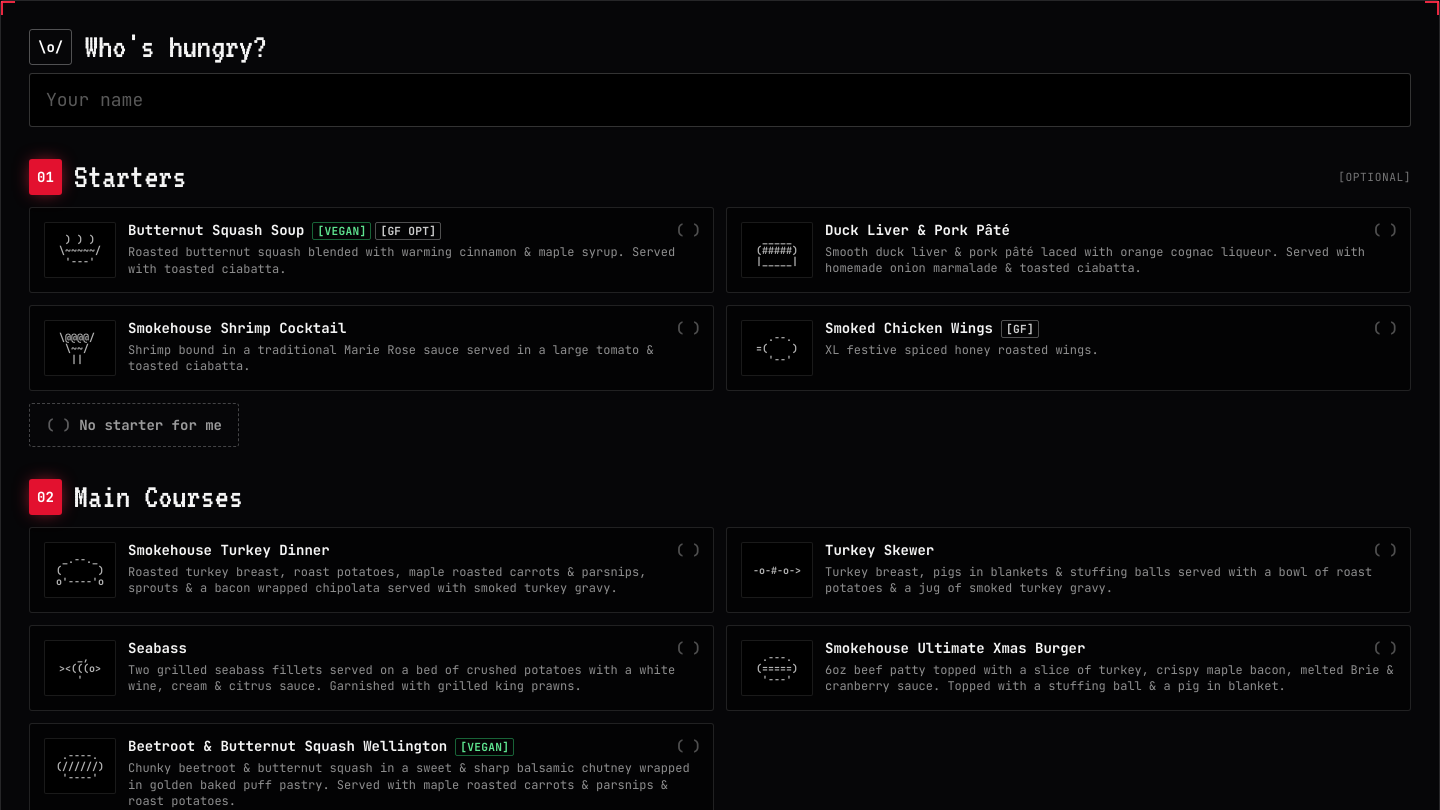
it: OrderForm › asks cream or ice cream for the fudge cake and requires an answer
Later steps or results of the test are not shown.
Type "Ben" into the field with placeholder "Your name" at (720, 100), box [29,73,1411,127]
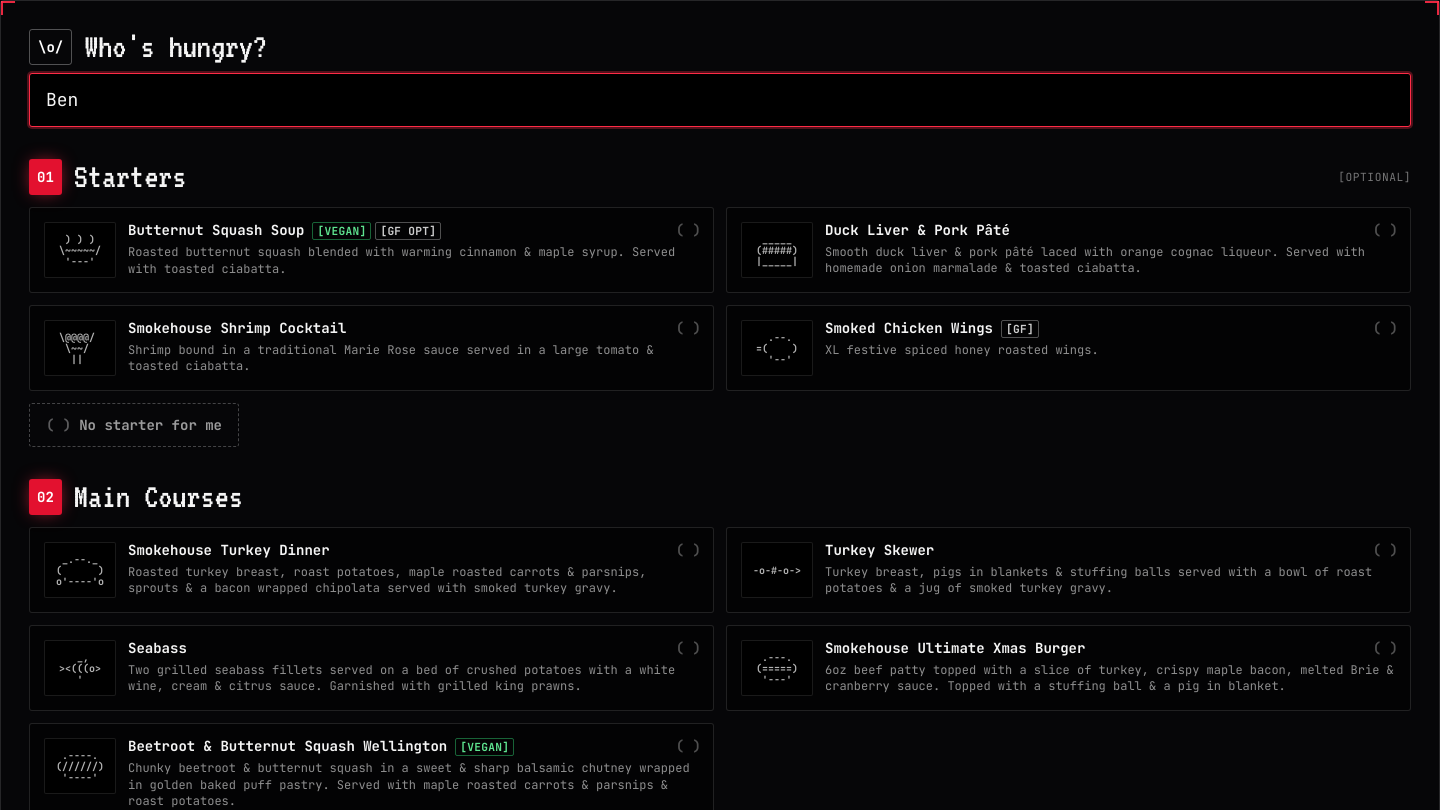
Click the radio button labelled "( ) No starter for me" at (134, 425), box [29,403,239,447]
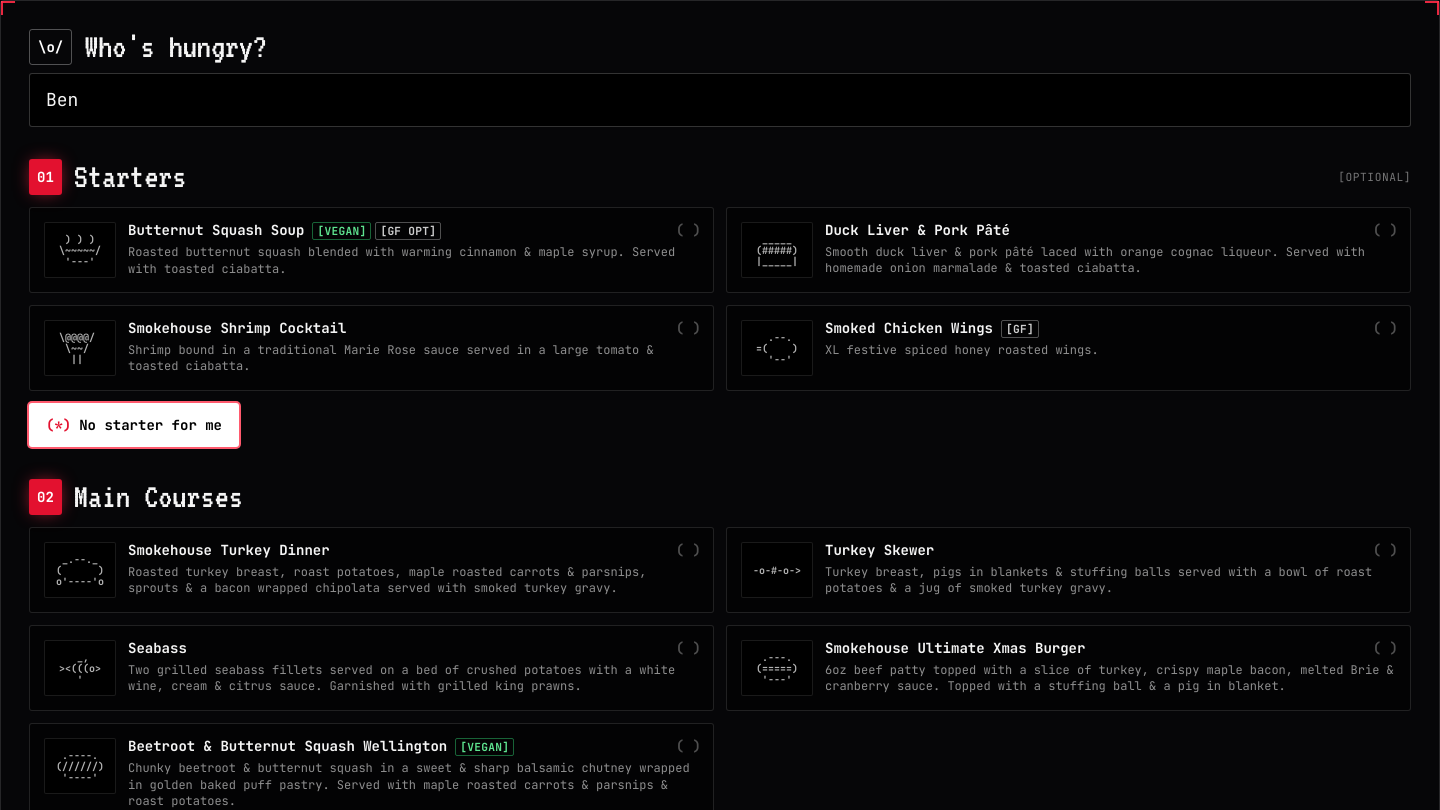
Click the radio button labelled "Seabass" at (372, 668), box [29,625,714,711]
(page scrolled)
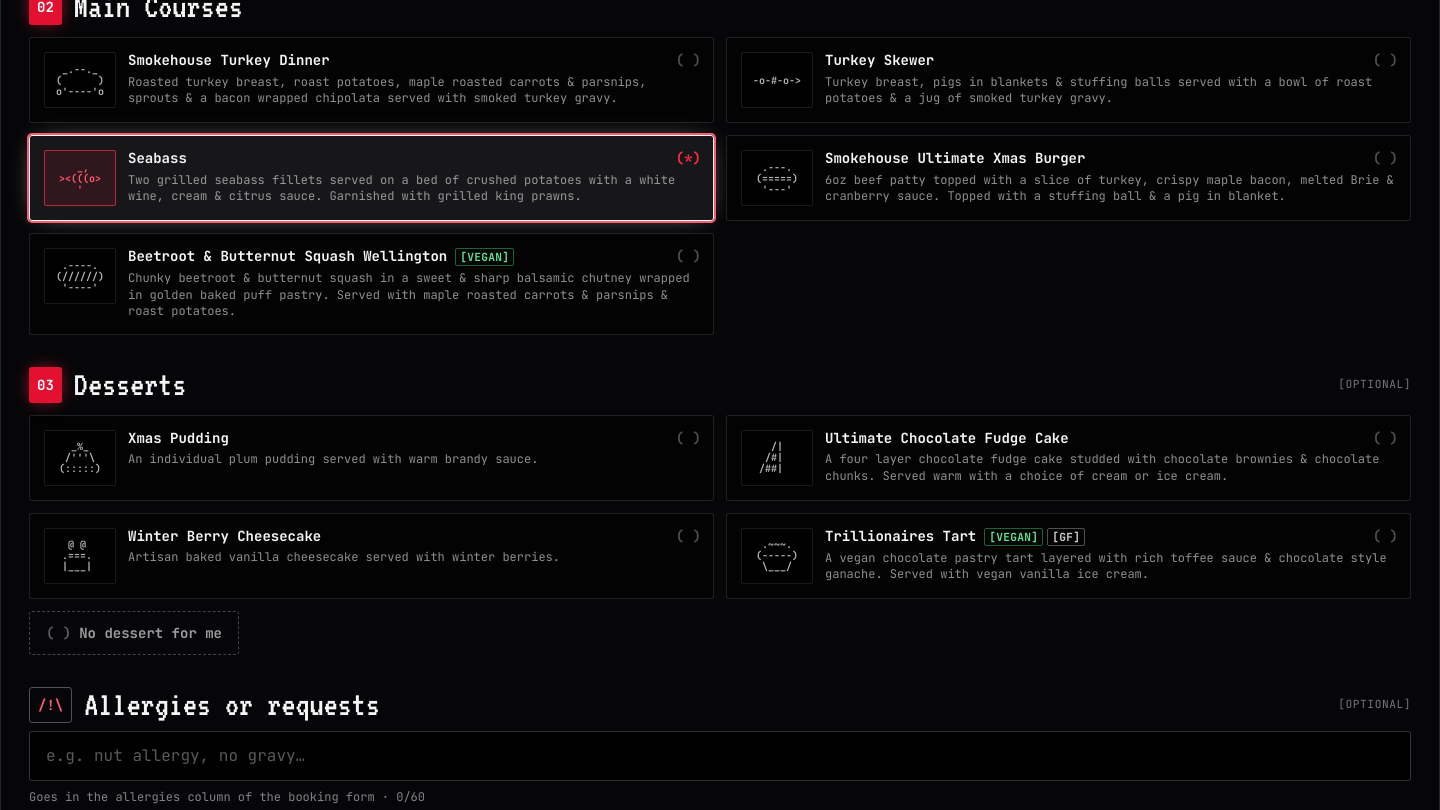
Click the radio button labelled "Ultimate Chocolate Fudge Cake" at (1068, 458), box [726,414,1411,500]
(page scrolled)
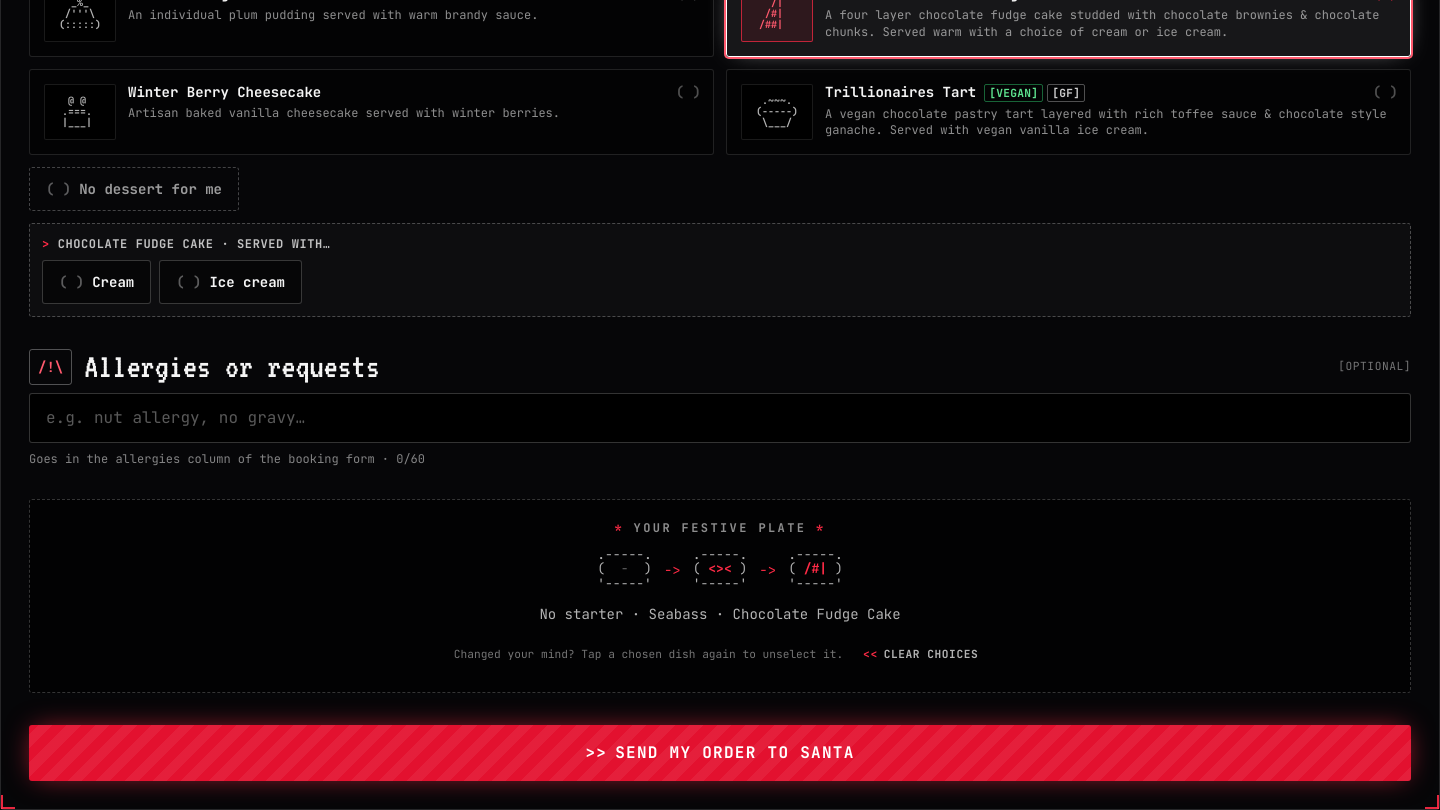
Now the radio button labelled "Ice cream" is not checked, box [159,260,302,304]
Click the button ">> Send my order to Santa" at (720, 753), box [29,725,1411,781]
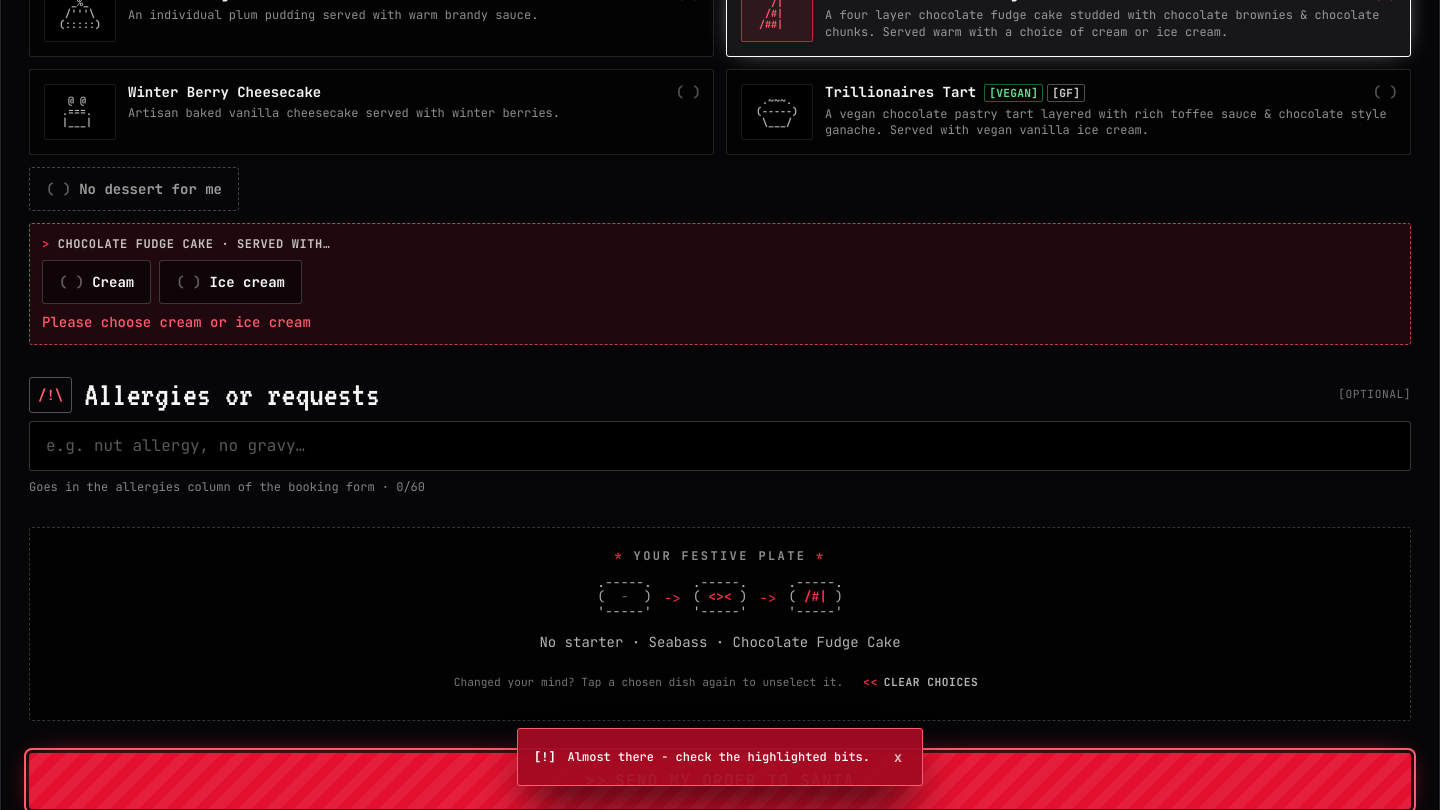
Now the text "Please choose cream or ice cream" is shown, box [42,312,311,330]
